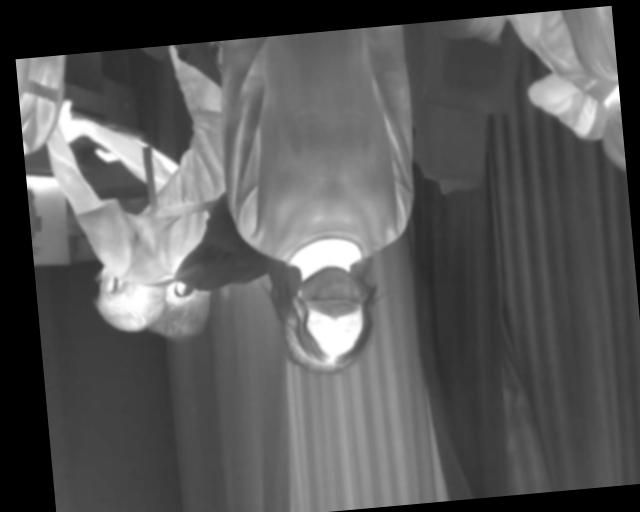face: (278, 262, 375, 378)
